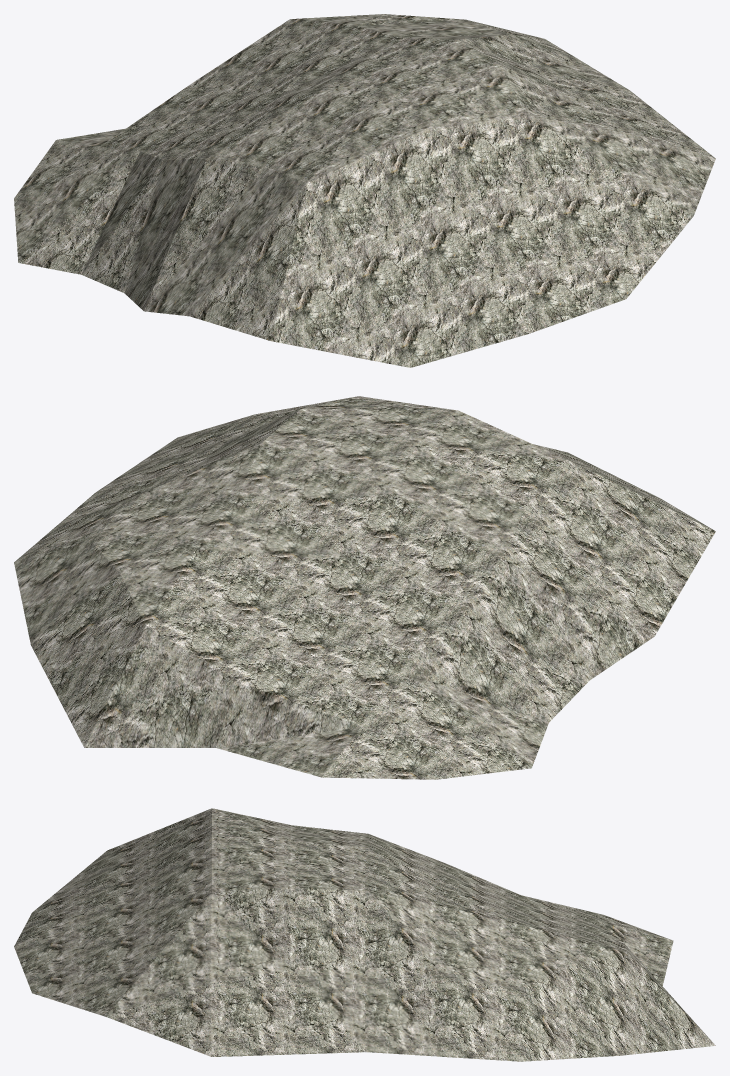
The model's file is ce_grndpalcst03a.obj.
The picture shows the model from 3 angles, top to bottom: view 1: azimuth 30°, elevation 25°; view 2: azimuth 150°, elevation 25°; view 3: azimuth 270°, elevation 25°; orthographic projection. The views are drawn at different scales.
Visible parts, largest first — view 1: CE_grndPALCST03A; view 2: CE_grndPALCST03A; view 3: CE_grndPALCST03A.
Part boxes in pixels (bbox=[...]): CE_grndPALCST03A: bbox=[14, 14, 715, 367]; CE_grndPALCST03A: bbox=[14, 396, 715, 779]; CE_grndPALCST03A: bbox=[14, 808, 715, 1061].
Bounding box in the file's own units: 159 × 56.34 × 200.
